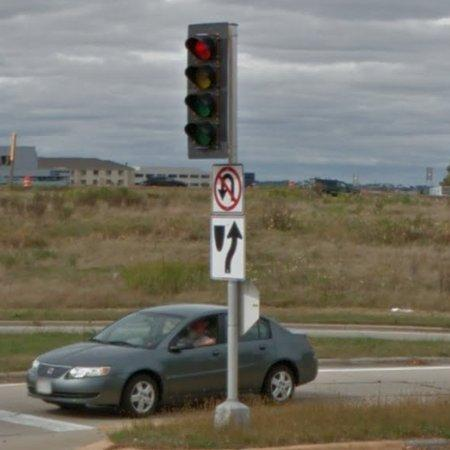traffic lights: (185, 24, 237, 159)
